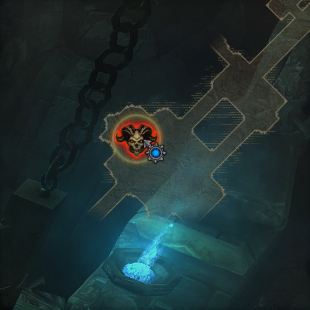Guardian: (113, 121, 161, 161)
